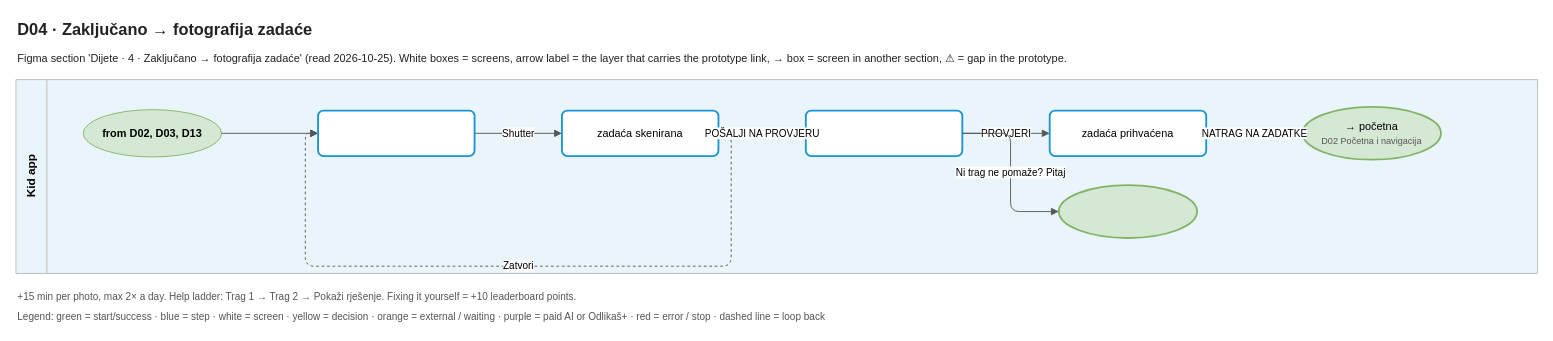
Image size: 1553x341. Some labels were removed from this diagram. The centre of each missing label's shape, as x and y in pixels:
AI provjera: (883,133)
fotografija zadaće: (396,133)
→ trebam pomoć D11 Pomoć i dnevni limit: (1127,211)
